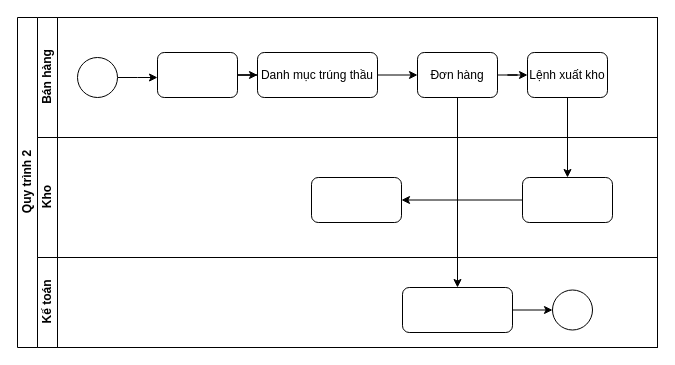
The diagram is 675 pixels wide and 365 high, and some of its shapes have lost their labels. Here are the shapes that lost their labels. From the top down, the box of each, then its label:
(156, 52, 238, 98): Báo giá
(310, 176, 402, 222): Phiếu giao hàng
(522, 176, 612, 222): Phiếu xuất bán
(402, 286, 512, 332): Hóa đơn bán hàng
